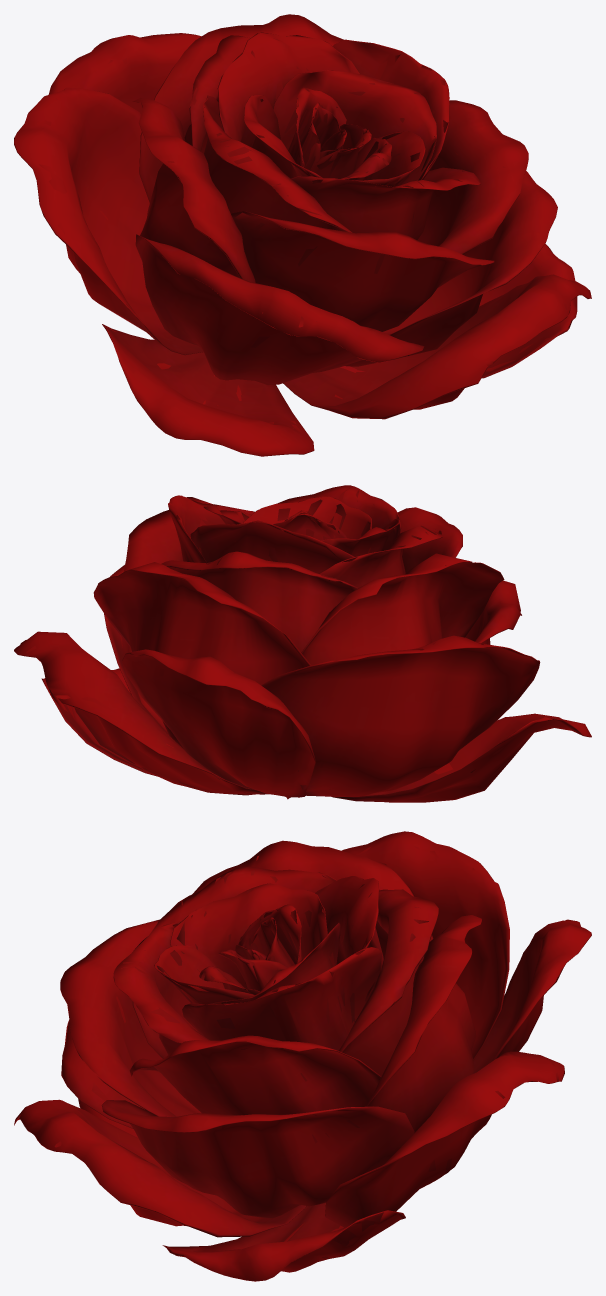
The model's file is garden-rose.glb.
3 renders of one model, top to bottom at view 1: azimuth 30°, elevation 25°; view 2: azimuth 150°, elevation 25°; view 3: azimuth 270°, elevation 25°, orthographic. The views are drawn at different scales.
Visible parts, largest first — view 1: FlowerHead; view 2: FlowerHead; view 3: FlowerHead.
Part boxes in pixels (x1,y1,x2,y2): FlowerHead: [14, 14, 591, 456]; FlowerHead: [14, 485, 591, 802]; FlowerHead: [14, 831, 591, 1281].
Bounding box in the file's own units: 0.3571 × 0.2167 × 0.3545.
Materials: 1 (1 with a texture image).
